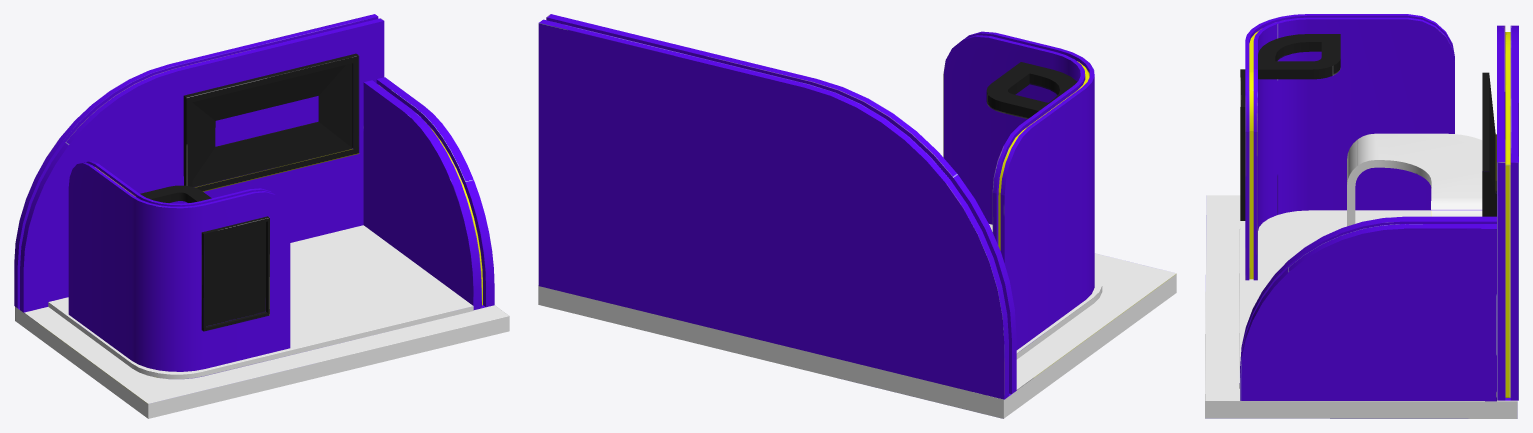
File: stand3.glb
3 views of the same model, side by side, from view 1: azimuth 30°, elevation 25°; view 2: azimuth 150°, elevation 25°; view 3: azimuth 270°, elevation 25° (orthographic). The views are drawn at different scales.
Parts seen in each view (by area): view 1: Plane.003; view 2: Plane.003; view 3: Plane.003.
Part boxes in pixels (bbox=[...]): Plane.003: bbox=[14, 14, 509, 418]; Plane.003: bbox=[538, 14, 1176, 418]; Plane.003: bbox=[1205, 14, 1518, 418].
Bounding box in the file's own units: 11.55 × 6.69 × 7.43.
1 material, 1 textured.
